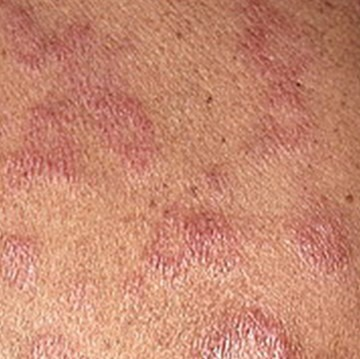Leprosy: (0, 0, 173, 188), (210, 0, 359, 162), (125, 198, 359, 301), (170, 303, 319, 358), (0, 216, 46, 298), (14, 315, 90, 358)
